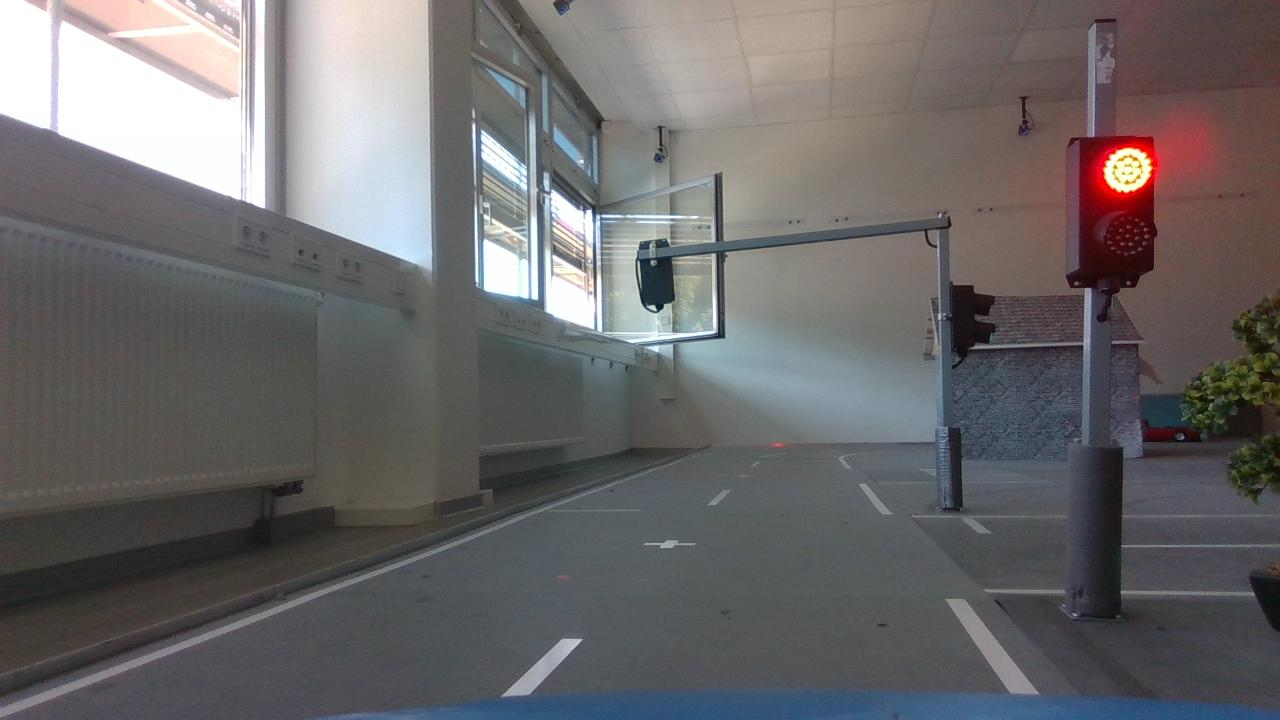traffic_light_red: (1049, 127, 1183, 305)
